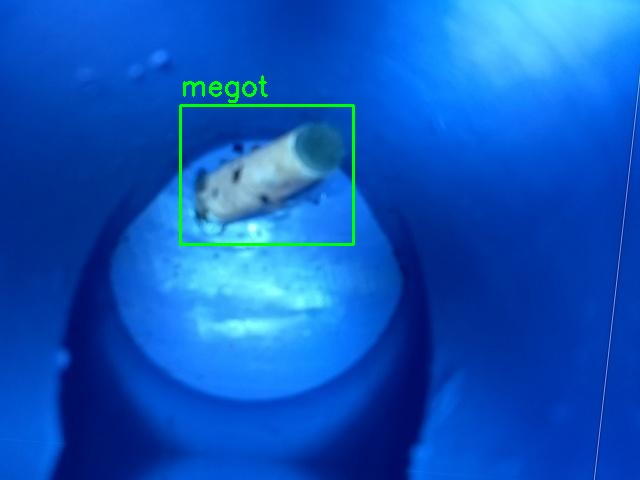megot: (180, 105, 353, 244)
